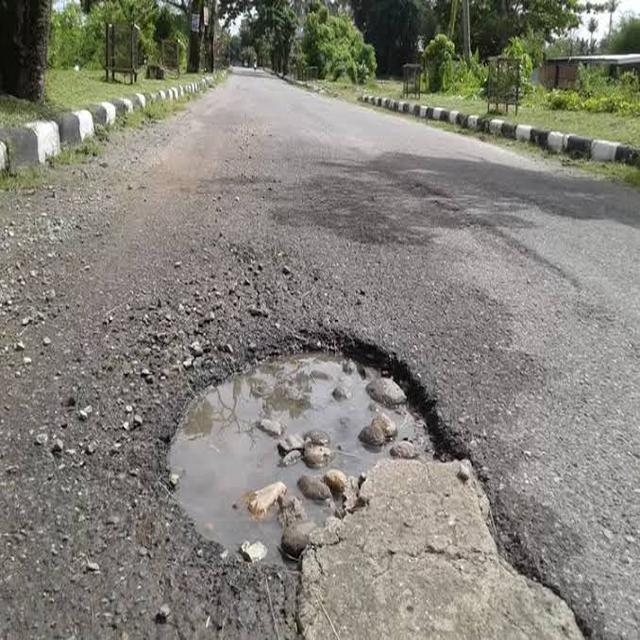Lubang: (158, 332, 449, 580)
